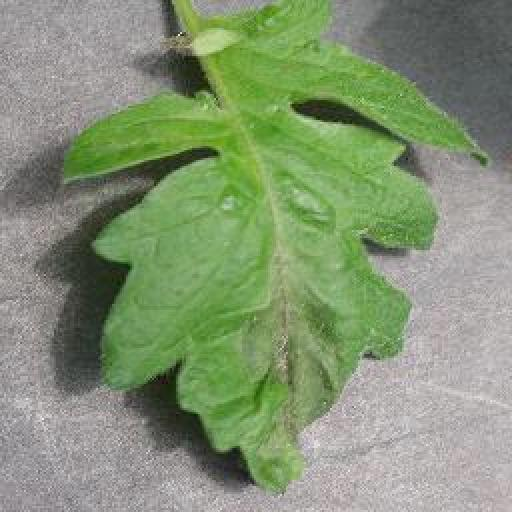disease_tomato: (60, 0, 486, 486)
